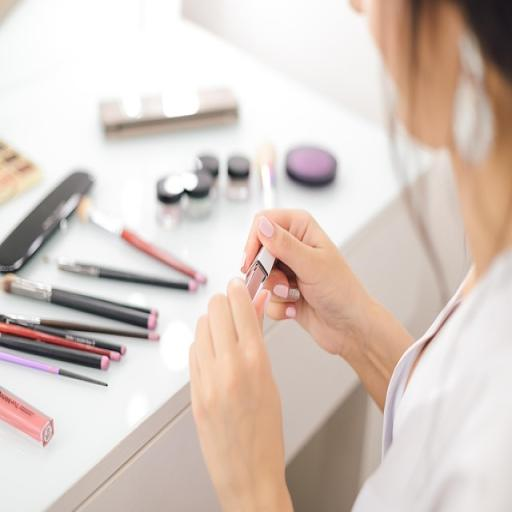lipstick: (0, 388, 53, 446), (246, 248, 275, 299)
